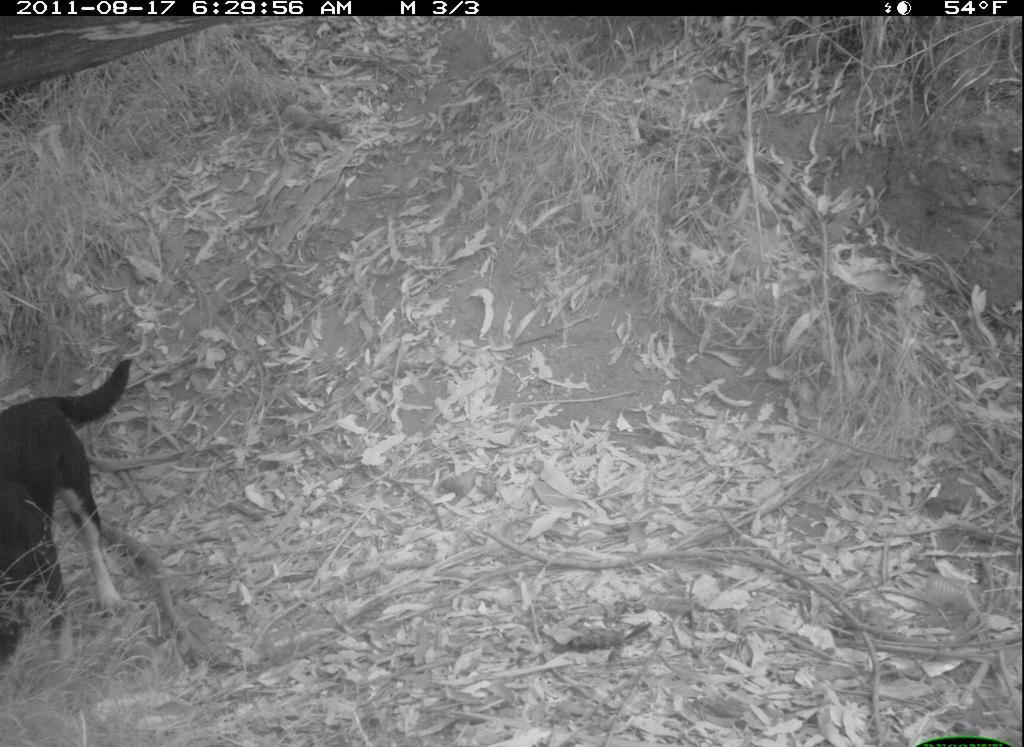dog: (1, 331, 146, 690)
